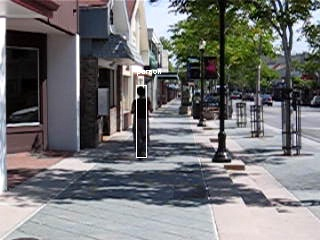person: (129, 85, 152, 160), (128, 85, 151, 160), (130, 85, 153, 160), (129, 84, 152, 159), (129, 86, 152, 161)
target_negative: (155, 20, 233, 222), (174, 102, 311, 191), (291, 54, 302, 140), (112, 61, 124, 96), (243, 31, 261, 47), (273, 103, 274, 141)
